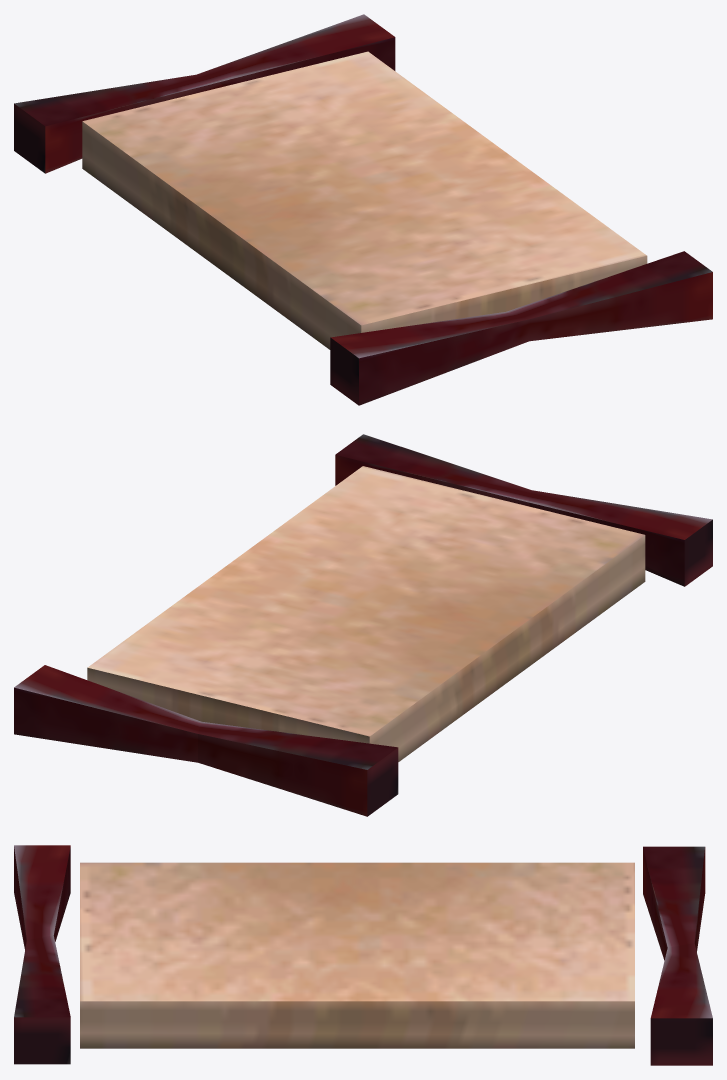
File: it_table_top_item.fbx
3 renders of one model, top to bottom at view 1: azimuth 30°, elevation 25°; view 2: azimuth 150°, elevation 25°; view 3: azimuth 270°, elevation 25°, orthographic.
Visible parts, largest first — view 1: mesh_0; view 2: mesh_0; view 3: mesh_0.
Boxes of the visible parts, x1,y1,x2,y2 form: mesh_0: (14,14,712,405); mesh_0: (14,434,712,816); mesh_0: (14,845,712,1065).
Size of the model in its own units: 15.74 by 2 by 26.87.
Materials: 1 (1 with a texture image).
